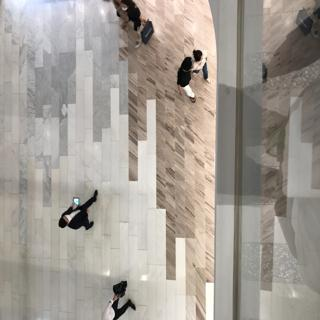person: (51, 189, 104, 242), (117, 1, 161, 53), (173, 54, 197, 106), (191, 45, 210, 82)
